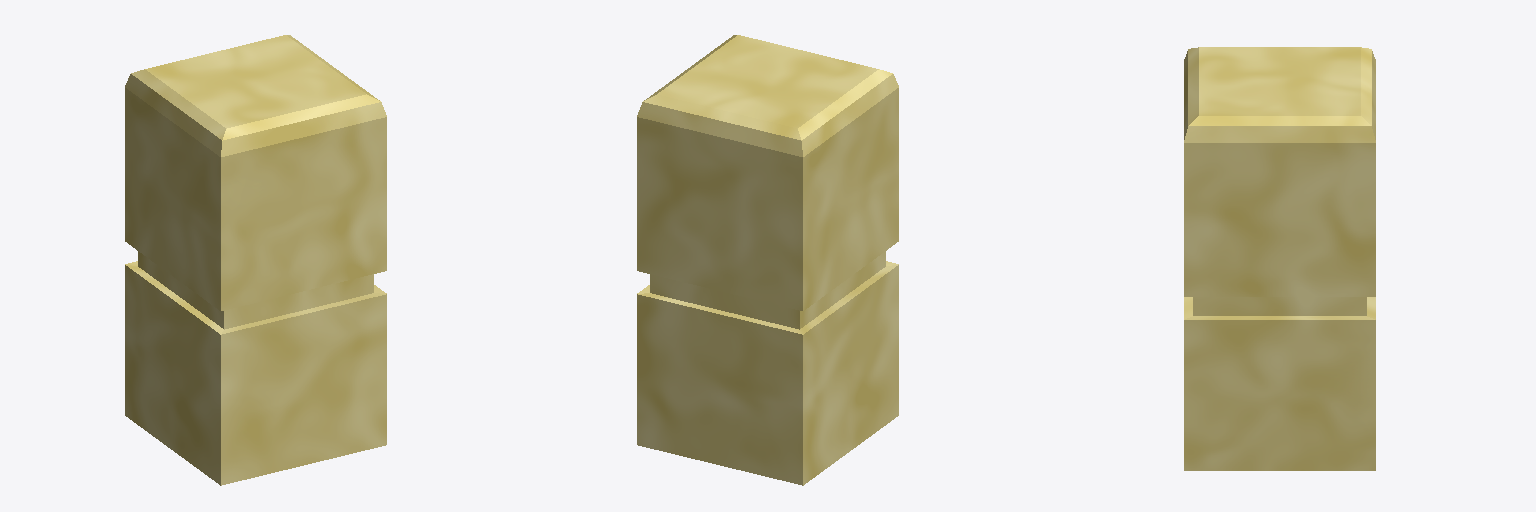
3 views of the same model, side by side, from view 1: azimuth 30°, elevation 25°; view 2: azimuth 150°, elevation 25°; view 3: azimuth 270°, elevation 25° (orthographic).
Visible parts, largest first — view 1: wtsf_Cube.001; view 2: wtsf_Cube.001; view 3: wtsf_Cube.001.
Boxes of the visible parts, box(x1,y1,x2,y2) form: wtsf_Cube.001: box(125, 35, 386, 485); wtsf_Cube.001: box(637, 35, 898, 485); wtsf_Cube.001: box(1184, 47, 1375, 470).
Bounding box in the file's own units: 0.15 × 0.3 × 0.15.
Materials: 1 (1 with a texture image).